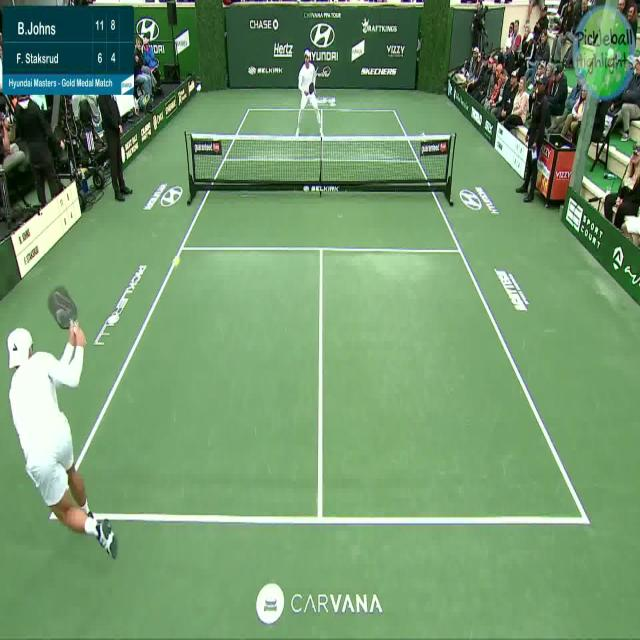Court: (49, 107, 592, 523)
ball: (170, 247, 183, 269)
